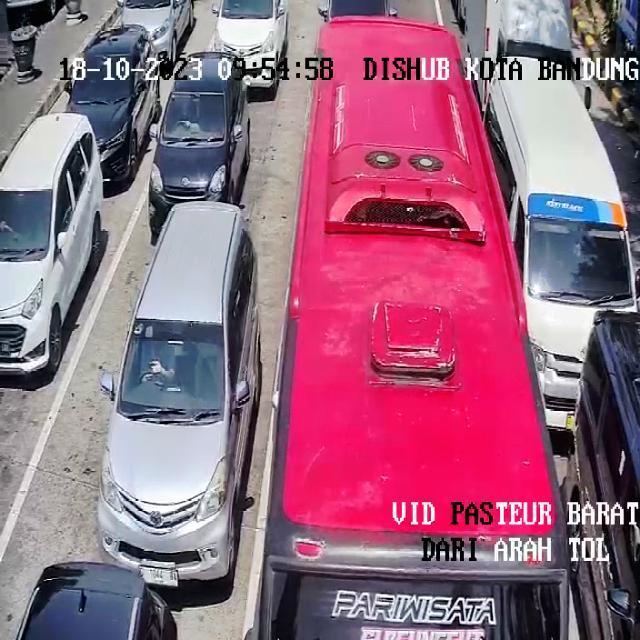bus: (260, 16, 566, 640)
car: (98, 202, 261, 587), (0, 114, 105, 377), (149, 55, 250, 239), (68, 25, 160, 188), (16, 561, 176, 639), (212, 0, 288, 99), (119, 0, 194, 78)
minivan: (484, 41, 636, 428), (565, 311, 640, 640), (486, 0, 570, 52)
